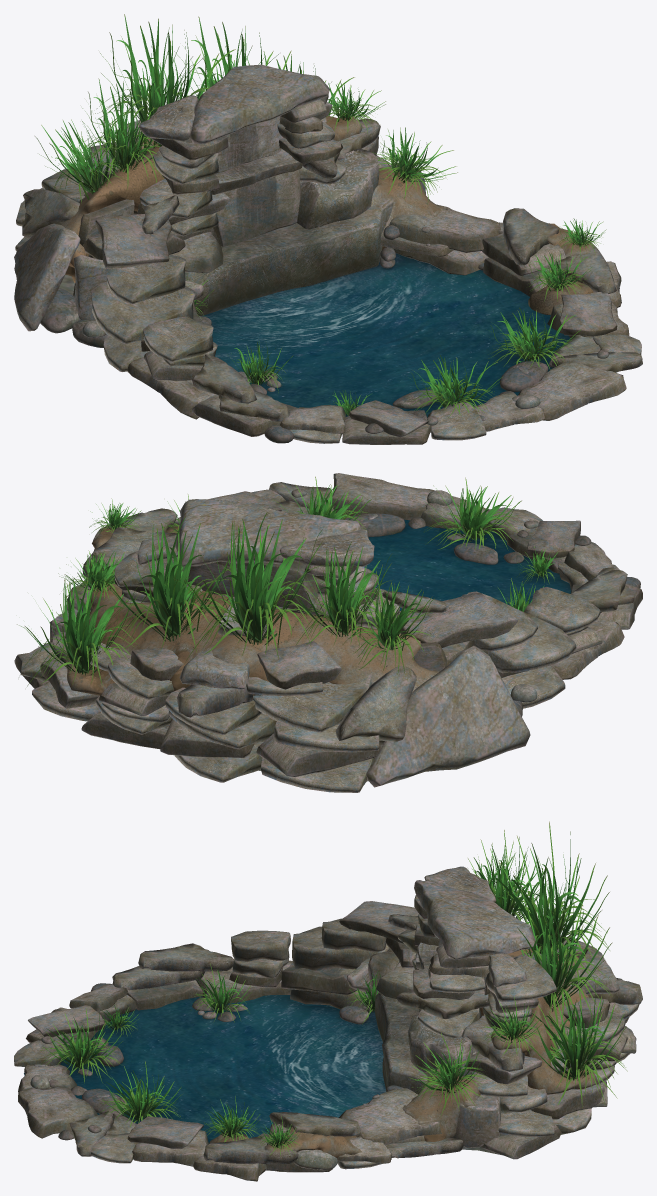
Rendered from rock_fountain.glb.
The picture shows the model from 3 angles, top to bottom: view 1: azimuth 30°, elevation 25°; view 2: azimuth 150°, elevation 25°; view 3: azimuth 270°, elevation 25°; orthographic projection. The views are drawn at different scales.
Visible parts, largest first — view 1: fountain_large.2_2; view 2: fountain_large.2_2; view 3: fountain_large.2_2.
Part boxes in pixels (x1,y1,x2,y2): fountain_large.2_2: [14, 14, 642, 444]; fountain_large.2_2: [14, 473, 642, 792]; fountain_large.2_2: [14, 821, 642, 1181].
Bounding box in the file's own units: 0.197 × 0.0887 × 0.2292.
Materials: 2 (2 with a texture image).
